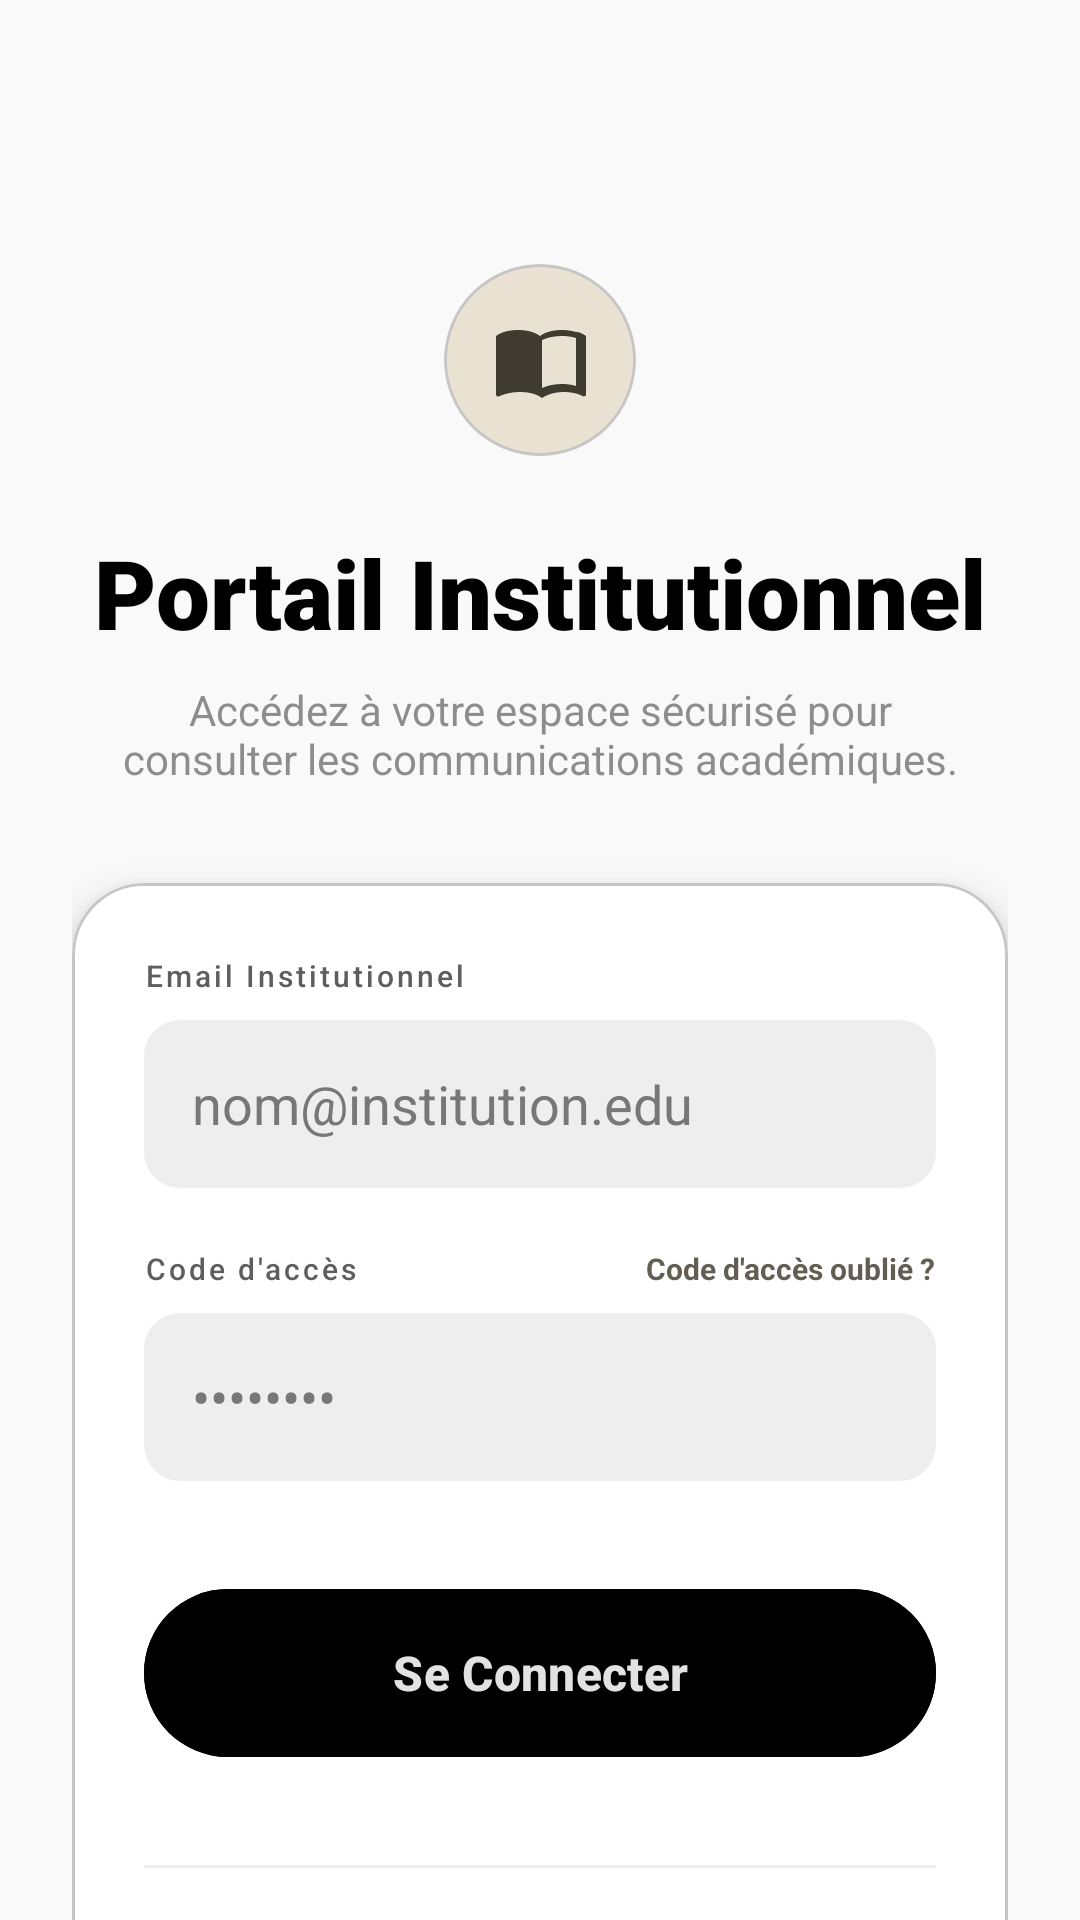

Screen size 1080px×1920px. Icon name, then its box in pixels as bbox(x1, y1, x2, y2):
book: bbox(496, 330, 586, 398)
